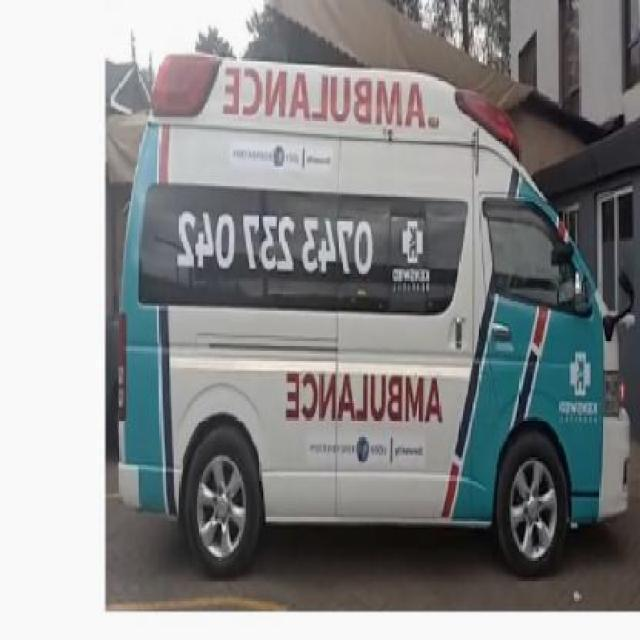emergency: (110, 49, 634, 579)
